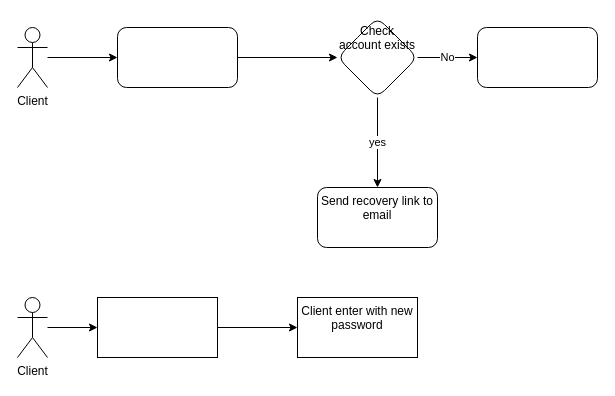
Some shapes in this 615 by 396 pixel diagram are drawn without their labels. Each missing label, with the box of its shape:
Click recovery link in email: (96, 296, 218, 358)
Enter with CPF / CPNJ to recovery password: (116, 26, 238, 88)
Show no account error: (476, 26, 598, 88)
